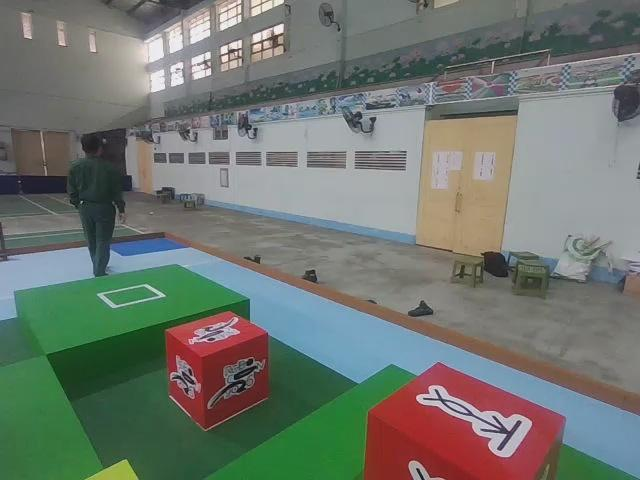R1: (166, 309, 270, 430)
R2 Real: (365, 361, 566, 480)
